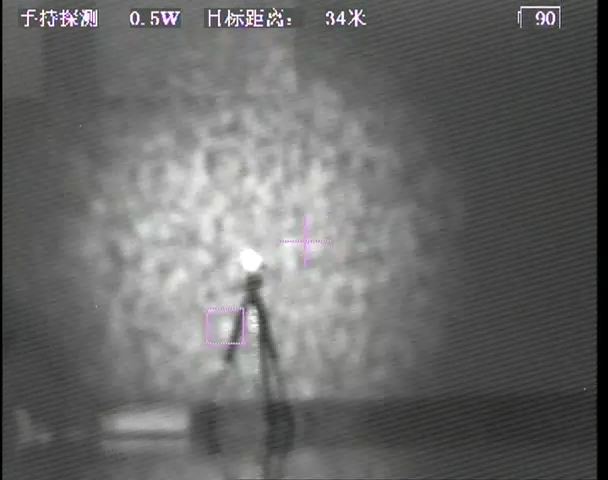my: (239, 248, 262, 272)
